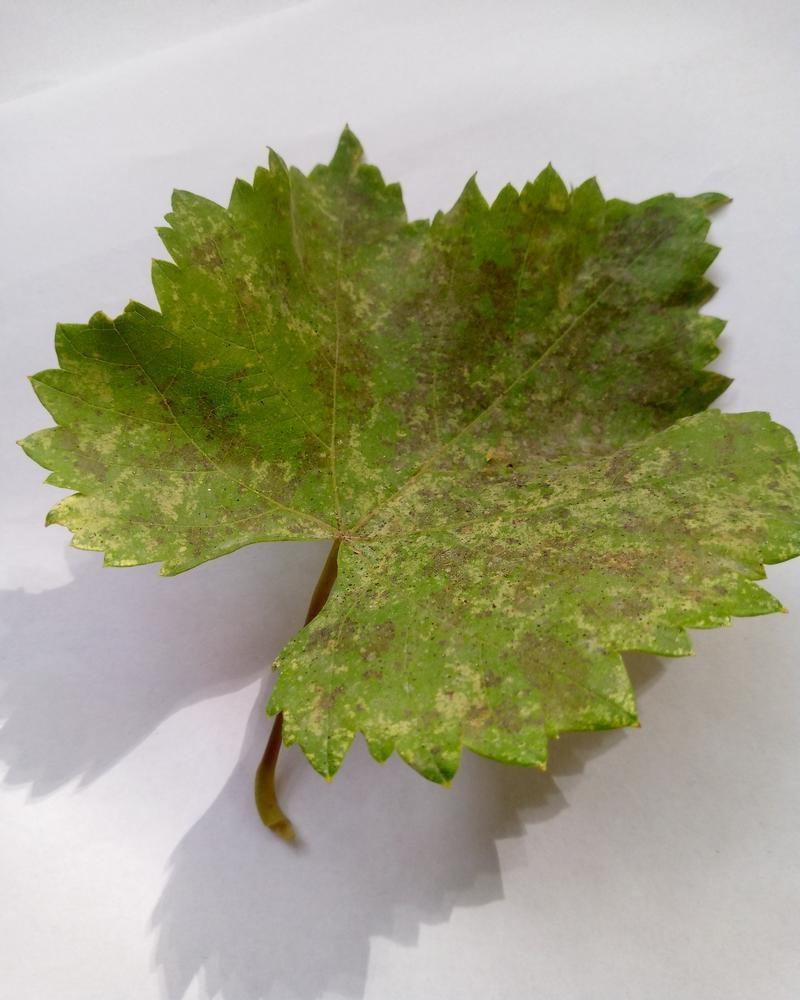Powdery-Mildew: (338, 399, 651, 574), (591, 466, 798, 630), (61, 407, 238, 537), (283, 608, 426, 754), (444, 248, 601, 380), (436, 619, 588, 738)
